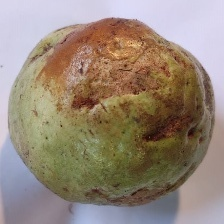guava: (42, 49, 182, 213)
